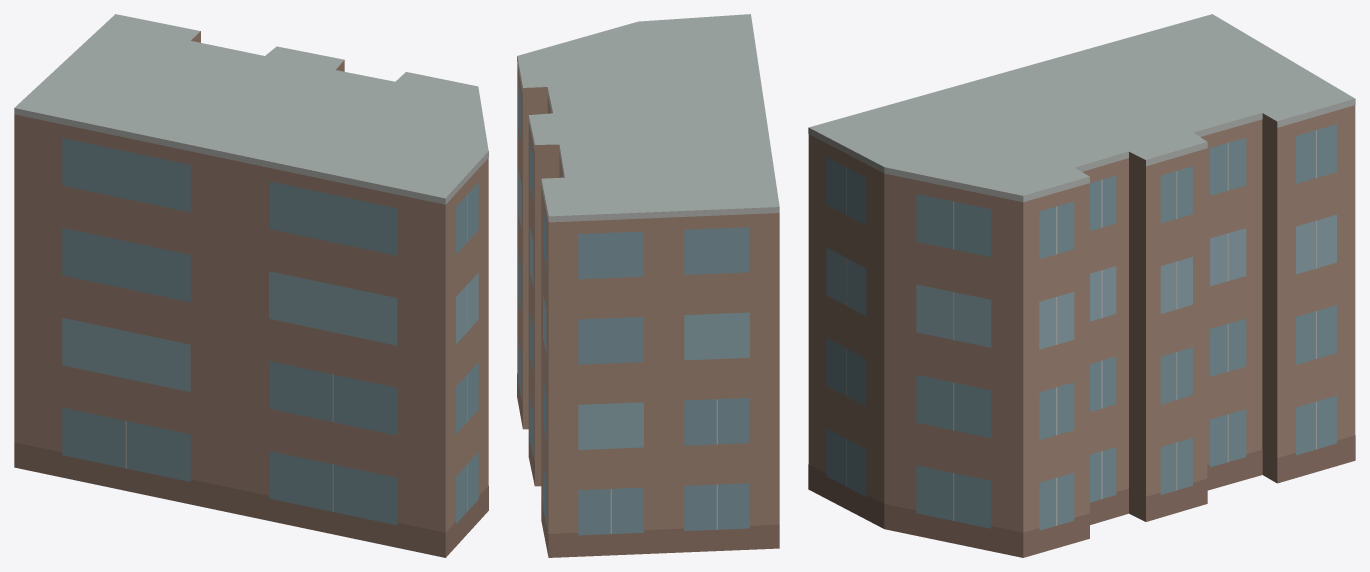
The model's file is survey-upis-32731517.glb.
The picture shows the model from 3 angles, left to right: view 1: azimuth 30°, elevation 25°; view 2: azimuth 150°, elevation 25°; view 3: azimuth 270°, elevation 25°; orthographic projection. The views are drawn at different scales.
Parts seen in each view (by area): view 1: survey-upis-32731517.tmp; view 2: survey-upis-32731517.tmp; view 3: survey-upis-32731517.tmp.
Part boxes in pixels (x1,y1,x2,y2): survey-upis-32731517.tmp: [14, 14, 488, 557]; survey-upis-32731517.tmp: [517, 14, 779, 557]; survey-upis-32731517.tmp: [808, 14, 1355, 557].
Bounding box in the file's own units: 14.94 × 13.85 × 18.97.
